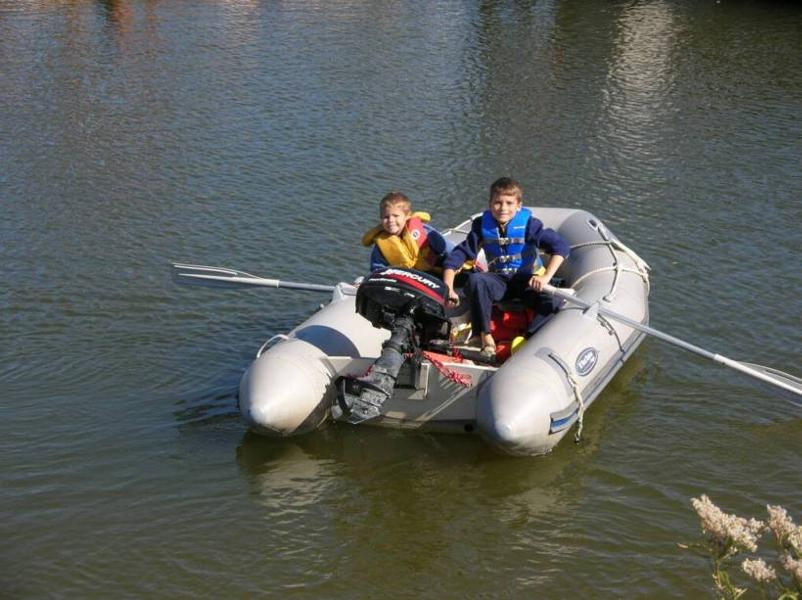person: (441, 177, 573, 364)
